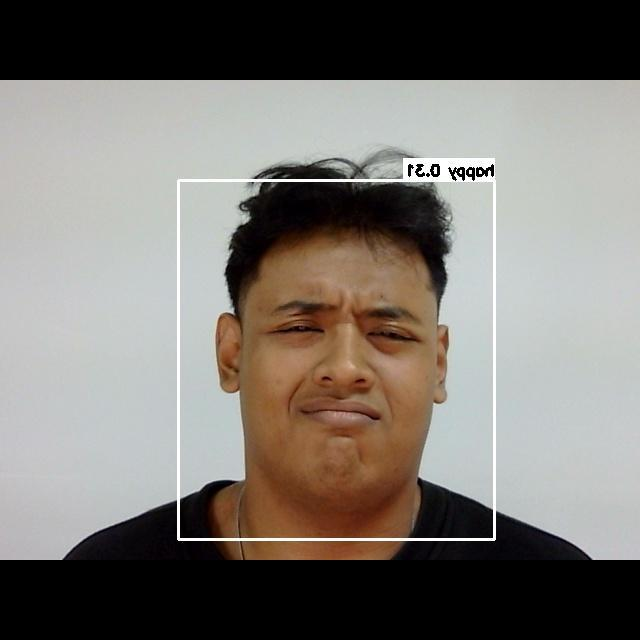Disgust: (248, 267, 441, 469)
